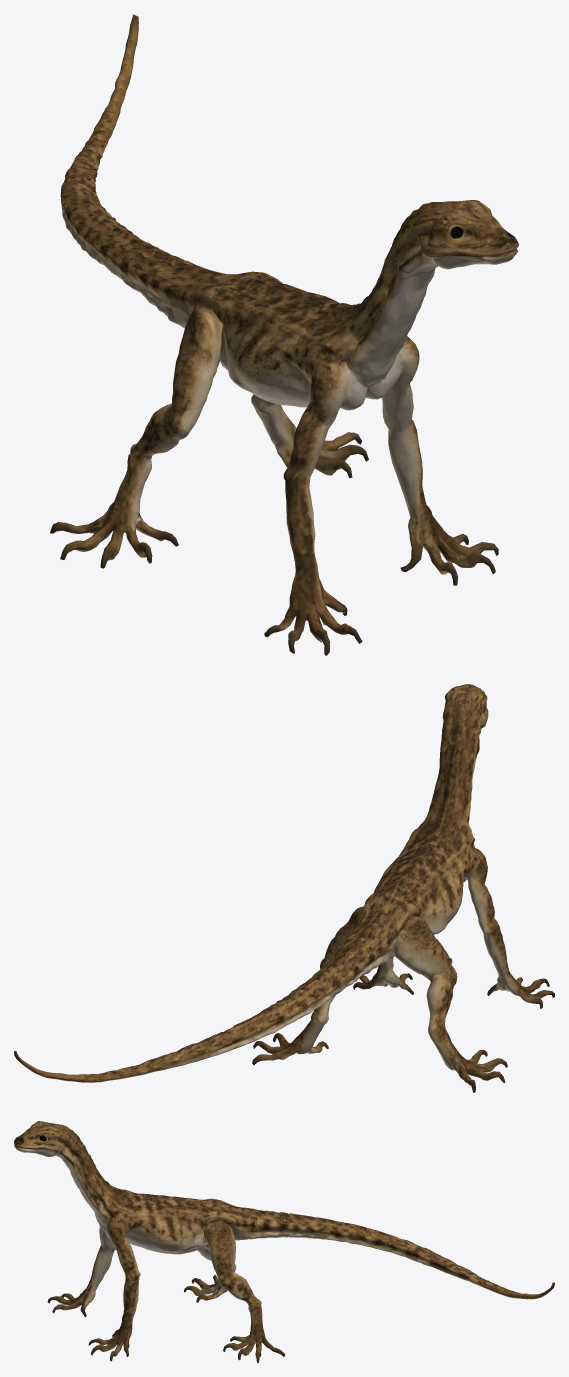
Rendered from macrocnemus.raw.glb.
3 views of the same model, one above another, from view 1: azimuth 30°, elevation 25°; view 2: azimuth 150°, elevation 25°; view 3: azimuth 270°, elevation 25° (orthographic). The views are drawn at different scales.
Visible parts, largest first — view 1: tripo_node_4a7236f8-f6b3-4ee0-8194-e2a6a39f5015; view 2: tripo_node_4a7236f8-f6b3-4ee0-8194-e2a6a39f5015; view 3: tripo_node_4a7236f8-f6b3-4ee0-8194-e2a6a39f5015.
Part boxes in pixels (x1,y1,x2,y2): tripo_node_4a7236f8-f6b3-4ee0-8194-e2a6a39f5015: [50, 14, 518, 655]; tripo_node_4a7236f8-f6b3-4ee0-8194-e2a6a39f5015: [14, 684, 554, 1092]; tripo_node_4a7236f8-f6b3-4ee0-8194-e2a6a39f5015: [14, 1121, 554, 1362].
Bounding box in the file's own units: 0.4433 × 0.4327 × 1.
Materials: 1 (1 with a texture image).
